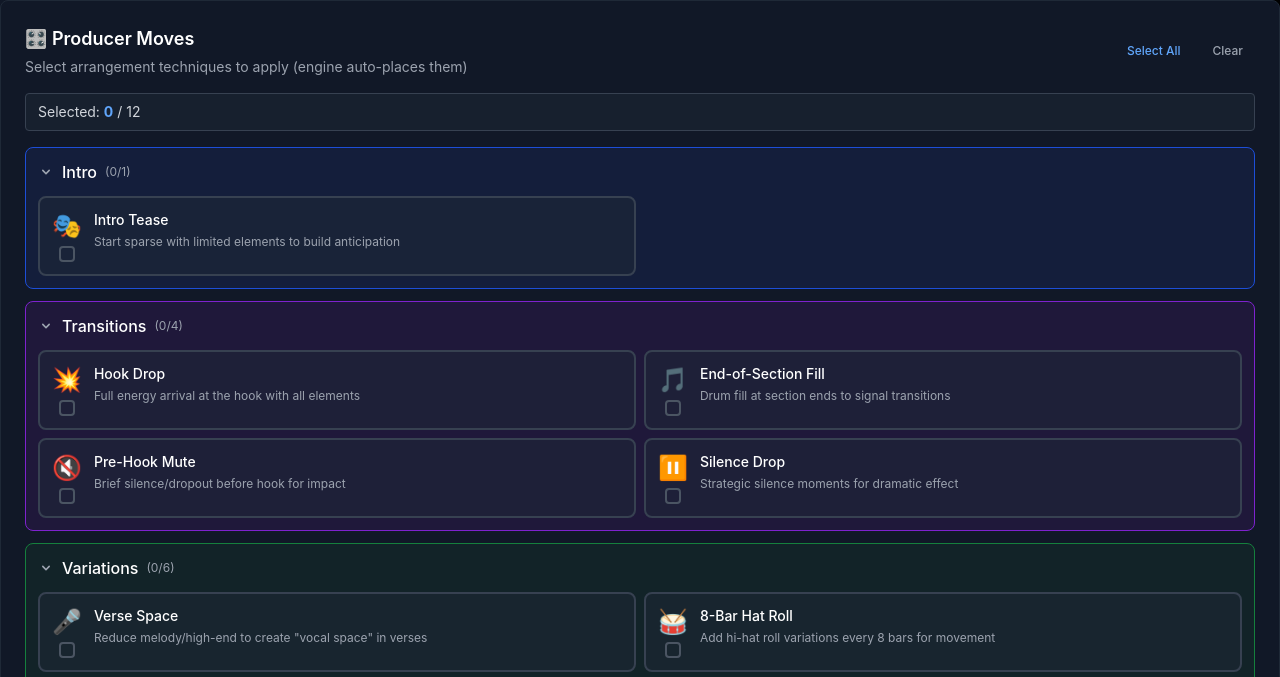
ProducerMoves – category toggle › re-expands category after clicking collapsed header
The image size is (1280, 677).
Click the button "Intro (0/1)" at (79, 172), box [26,148,1254,196]
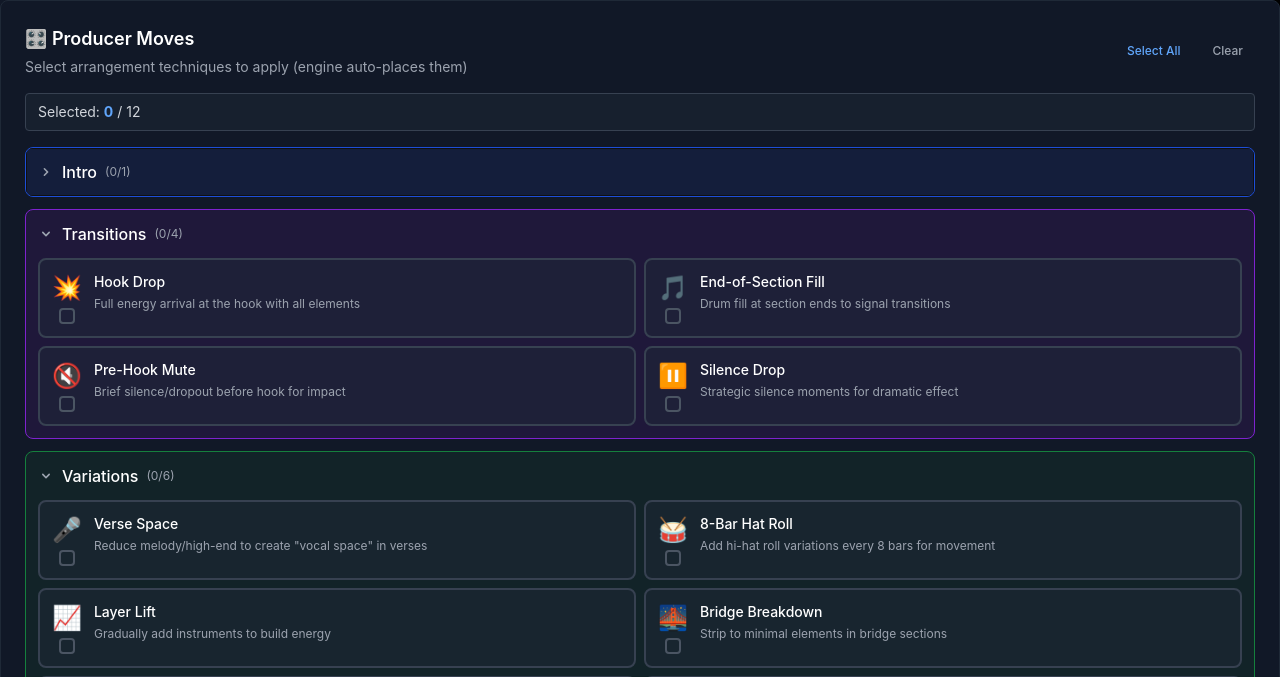
Click the button "Intro (0/1)" at (79, 172), box [26,148,1254,196]
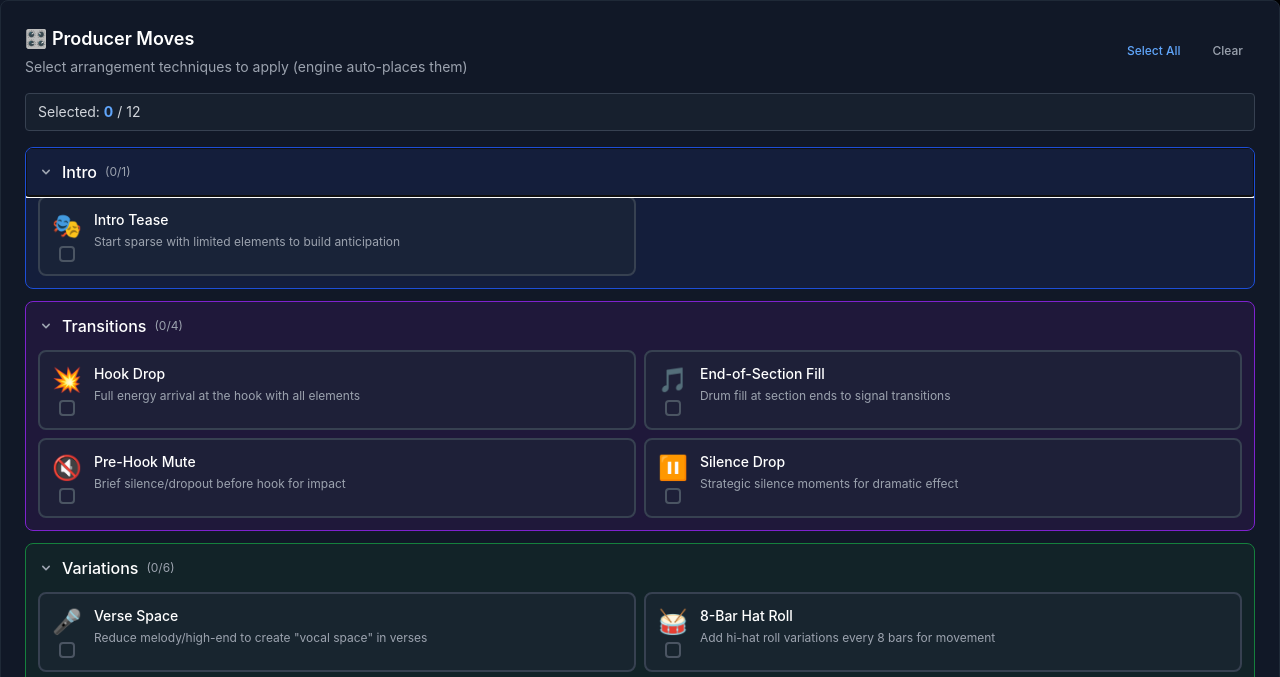
Result: the text "Intro Tease" is shown at [94,211,168,228]
